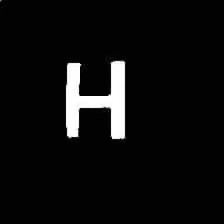LTR_H: (52, 52, 136, 149)
